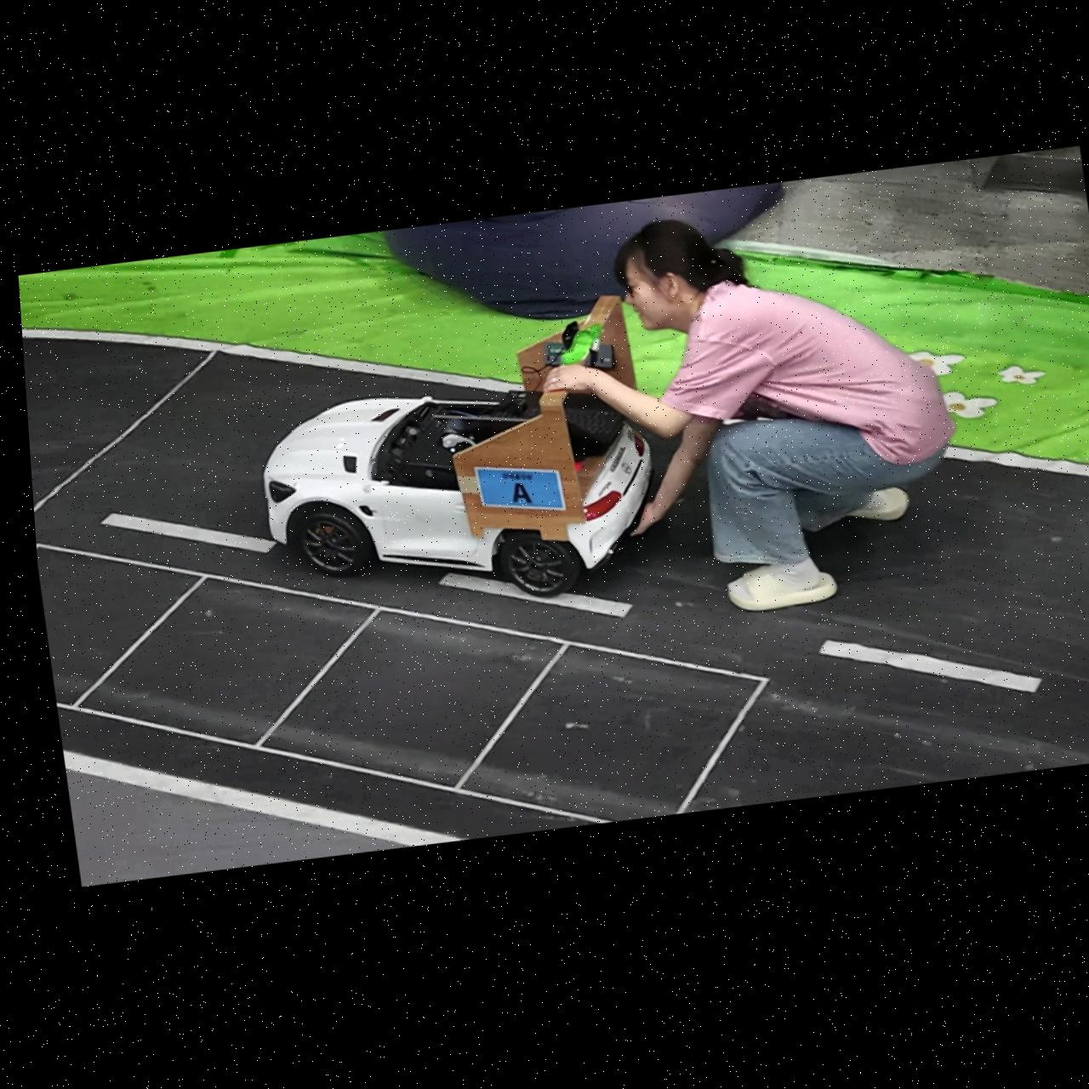broken_line: (820, 640, 1043, 693), (439, 573, 633, 618), (101, 513, 277, 553)
